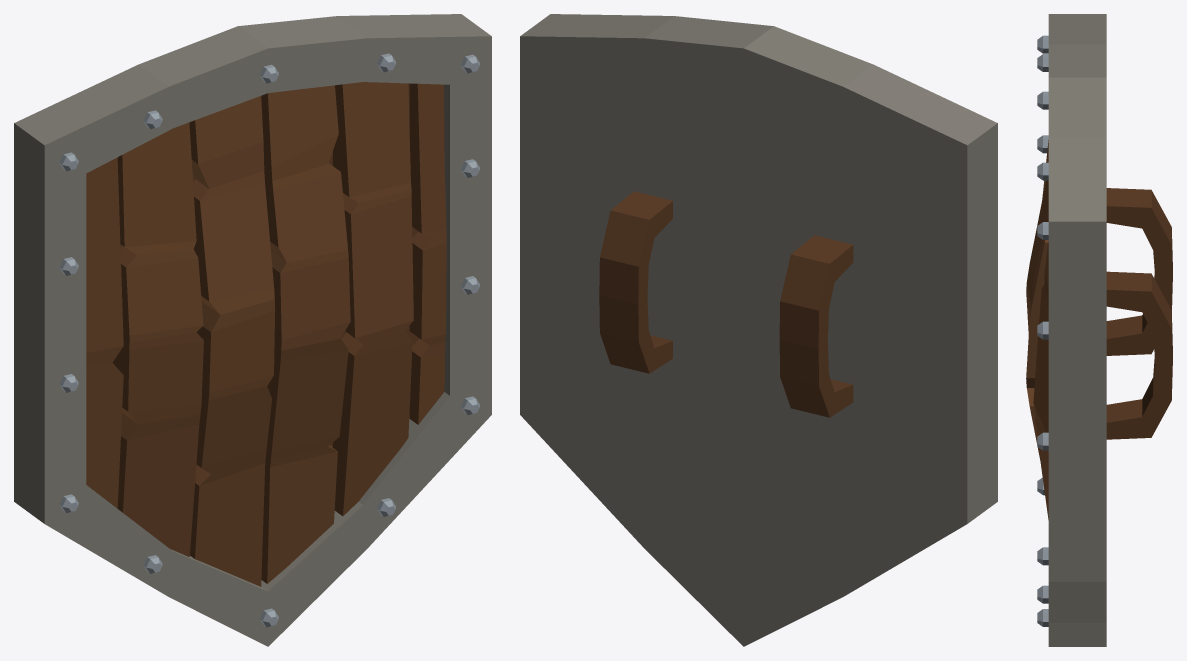
File: cc0-shield-heater-lod0.glb
3 views of the same model, side by side, from view 1: azimuth 30°, elevation 25°; view 2: azimuth 150°, elevation 25°; view 3: azimuth 270°, elevation 25° (orthographic). The views are drawn at different scales.
Visible parts, largest first — view 1: part_0; view 2: part_0; view 3: part_0.
Boxes of the visible parts, x1=… form: part_0: x1=14, y1=14, x2=491, y2=646; part_0: x1=520, y1=14, x2=997, y2=646; part_0: x1=1026, y1=14, x2=1172, y2=646.
Bounding box in the file's own units: 2.01 × 2.56 × 0.5987.
